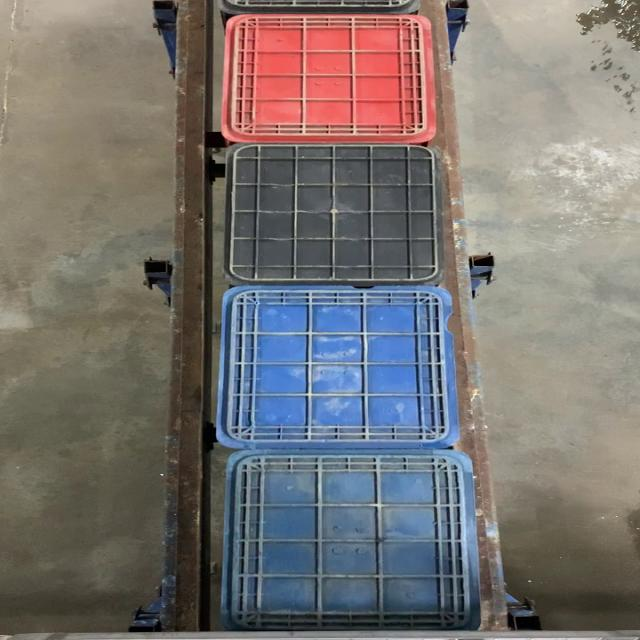Box: (219, 449, 477, 630), (215, 287, 462, 450), (218, 148, 449, 285), (220, 14, 436, 145)
